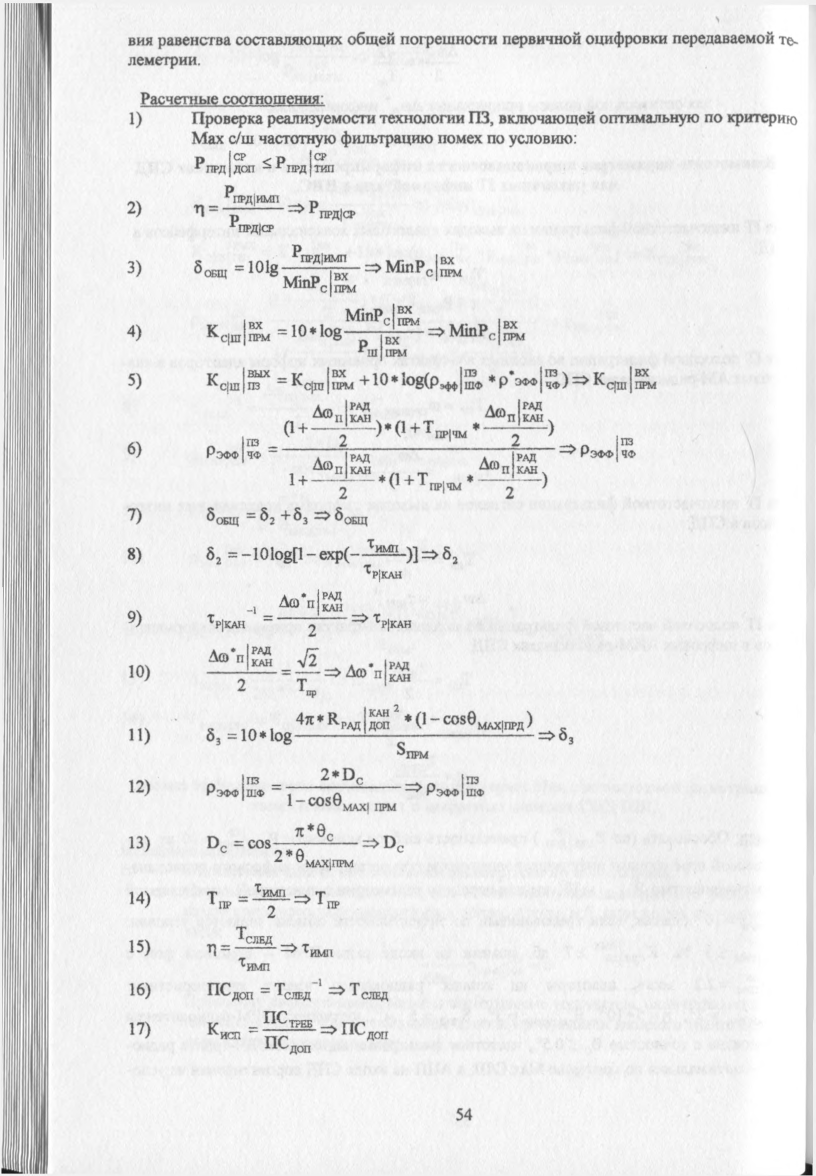D.с: (341, 766, 364, 786), (204, 835, 227, 854)
K.исп: (205, 1019, 242, 1041)
K.с.ш.вх.прм: (201, 315, 274, 347), (290, 366, 354, 392)
K.с.ш.вых.пз: (202, 364, 272, 394)
P.прд.имп: (288, 242, 348, 264), (221, 184, 281, 205)
P.прд.ср: (229, 212, 275, 235)
P.с.вх.прм: (373, 301, 424, 329), (312, 271, 357, 295)
P.ш.вх.прм: (358, 335, 408, 358)
R.р.кан.доп: (326, 701, 390, 732)
S.прм: (395, 738, 432, 759)
T.пр: (205, 888, 232, 909), (296, 678, 317, 695)
T.пр.чм: (417, 468, 465, 493), (422, 415, 468, 440)
T.след: (274, 980, 312, 1002), (235, 926, 275, 945)
group: (197, 398, 557, 496), (197, 698, 536, 761), (190, 359, 568, 397), (194, 299, 433, 358), (197, 763, 408, 817), (199, 531, 419, 582), (180, 240, 368, 296), (200, 819, 360, 872), (199, 587, 353, 636), (200, 642, 331, 699), (200, 1007, 325, 1061), (183, 183, 286, 238), (196, 922, 281, 973), (199, 876, 289, 914), (199, 502, 316, 530), (200, 977, 320, 1004)
Δω.п.р.кан: (274, 589, 345, 614), (207, 643, 275, 668), (482, 401, 547, 424), (311, 454, 373, 476), (477, 453, 537, 474), (311, 402, 371, 423)
δ.2: (256, 505, 277, 525), (205, 544, 223, 566)
δ.3: (289, 505, 312, 526), (203, 724, 223, 746)
δ.общ: (203, 503, 241, 527), (190, 258, 229, 281)
η: (202, 938, 218, 959), (193, 201, 205, 219)
θ.max.прд: (465, 705, 524, 732)
θ.max.прм: (332, 792, 404, 814), (294, 848, 354, 869)
θ.с: (315, 822, 336, 841)
ρ.эфф.пз.чф: (203, 432, 263, 466), (495, 363, 560, 391)
ρ.эфф.пз.шф: (203, 771, 268, 800), (429, 367, 483, 394)
τ.имп: (237, 955, 273, 971), (252, 881, 285, 897), (366, 536, 399, 552)
τ.р.кан: (204, 608, 247, 631), (362, 558, 405, 578)
ПС.доп: (204, 979, 254, 1002), (262, 1035, 313, 1056)
ПС.треб: (262, 1010, 315, 1029)
